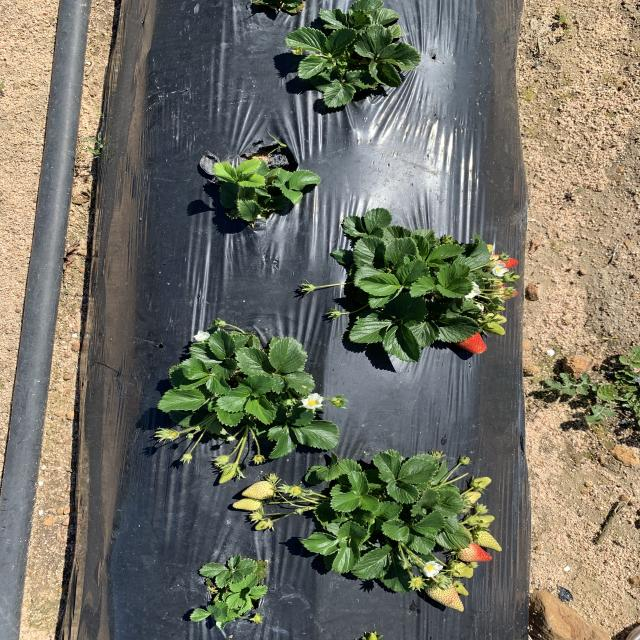unripe: (445, 322, 491, 362)
